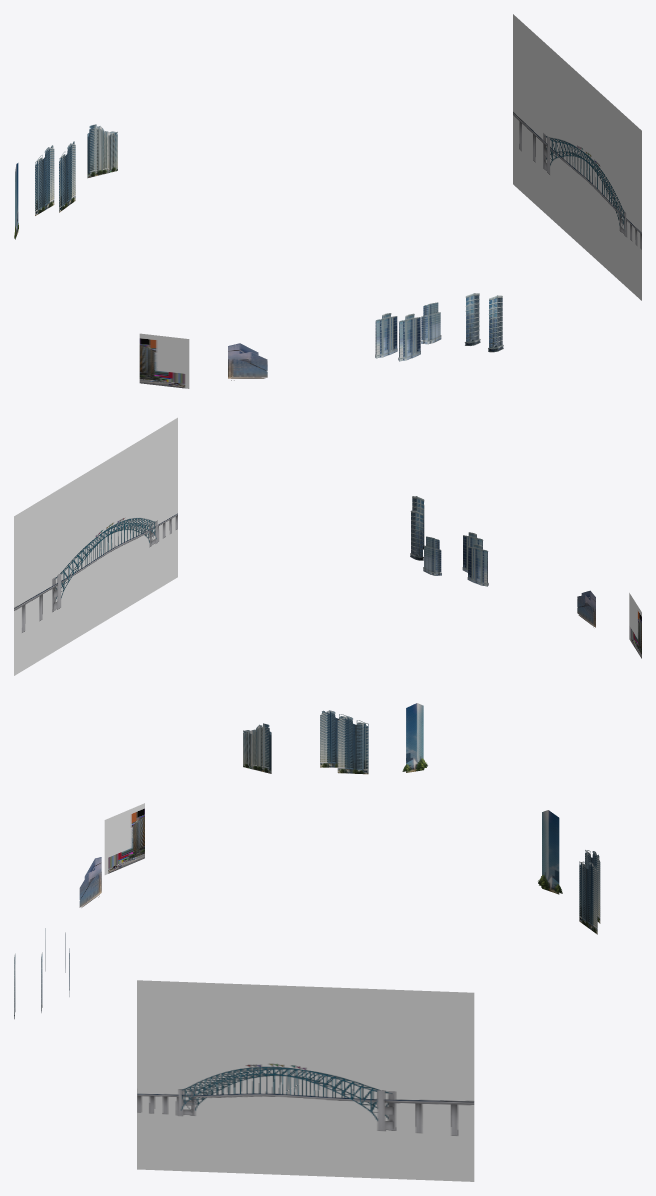
The picture shows the model from 3 angles, top to bottom: view 1: azimuth 30°, elevation 25°; view 2: azimuth 150°, elevation 25°; view 3: azimuth 270°, elevation 25°; orthographic projection. The views are drawn at different scales.
Bounding box in the file's own units: 583 × 182 × 548.
Materials: 5 (5 with a texture image).
